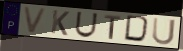D: (123, 14, 152, 44)
K: (49, 9, 71, 37)
T: (104, 14, 122, 40)
U: (151, 17, 177, 46), (74, 10, 99, 38)
V: (23, 6, 49, 35)
